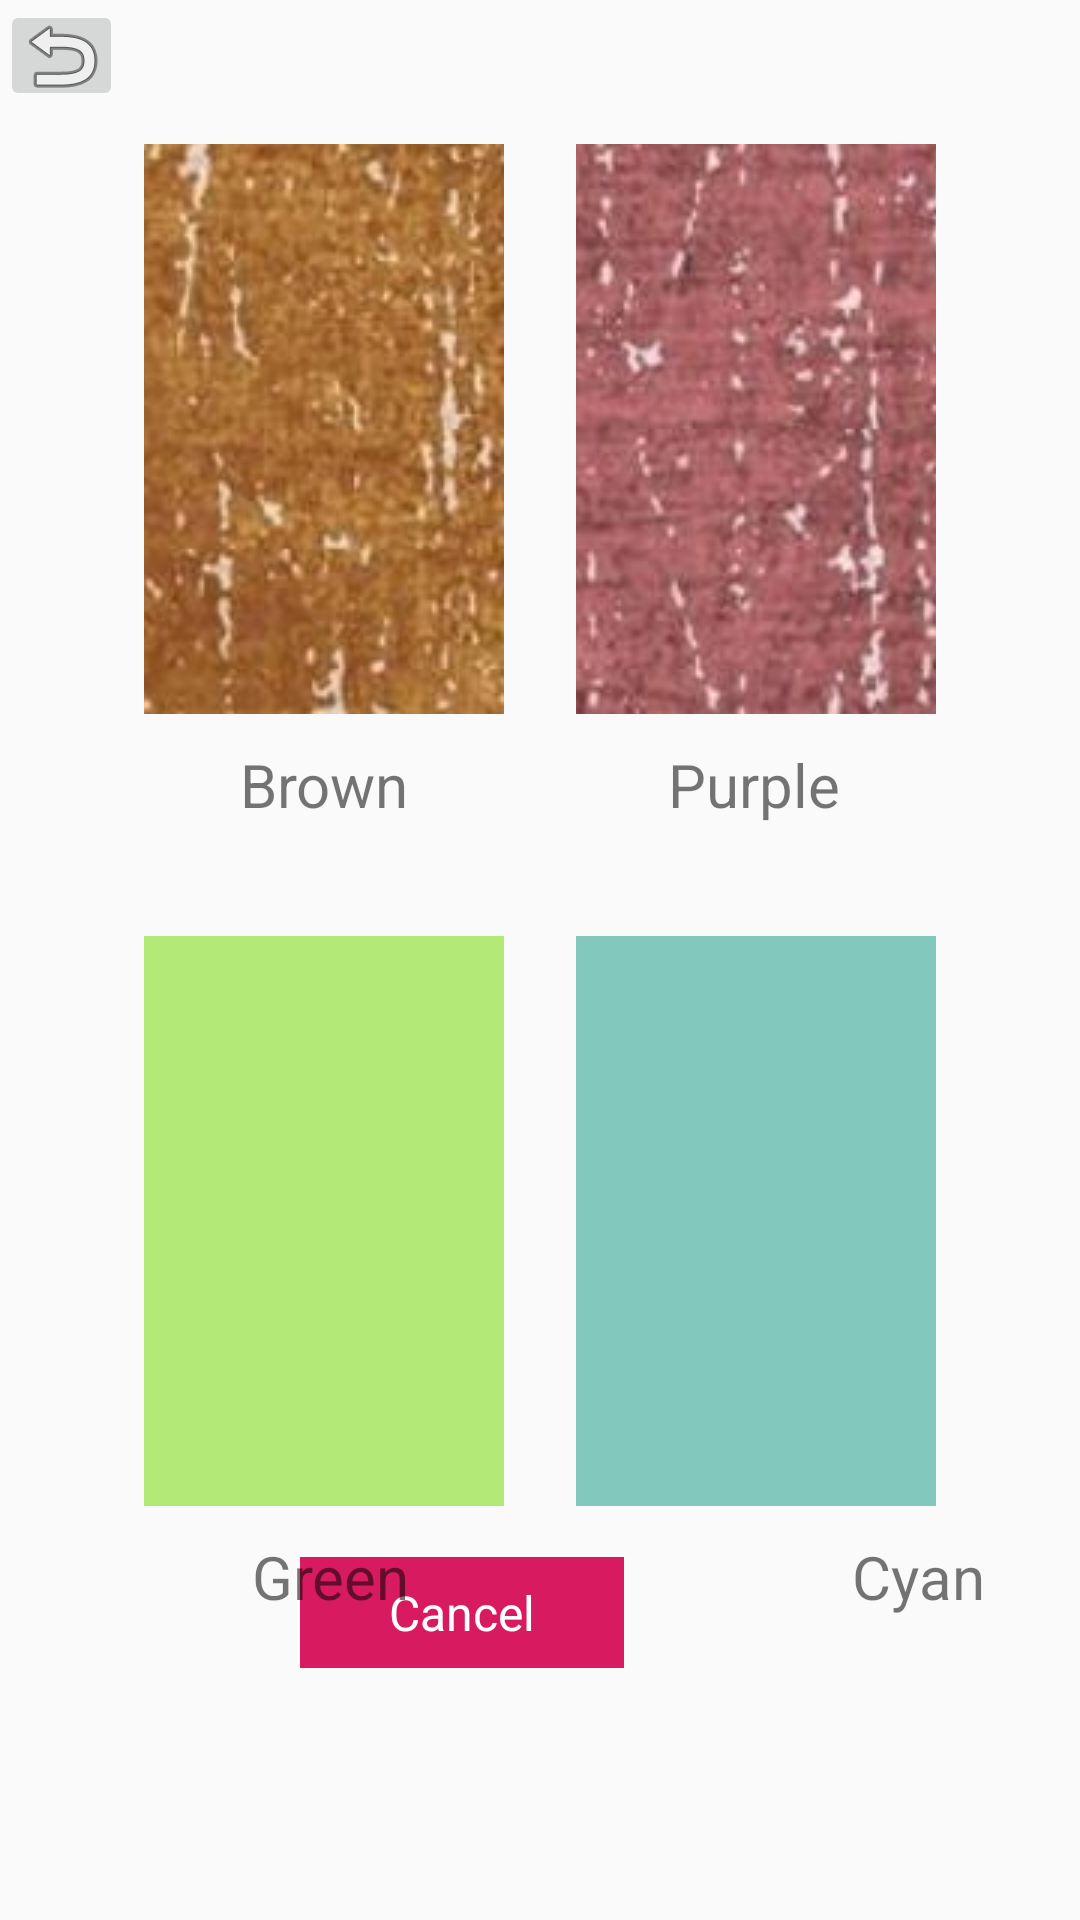

Named icons in this screenshot (1080 × 1920) and their centers, point (x, y):
revert: point (61, 55)
